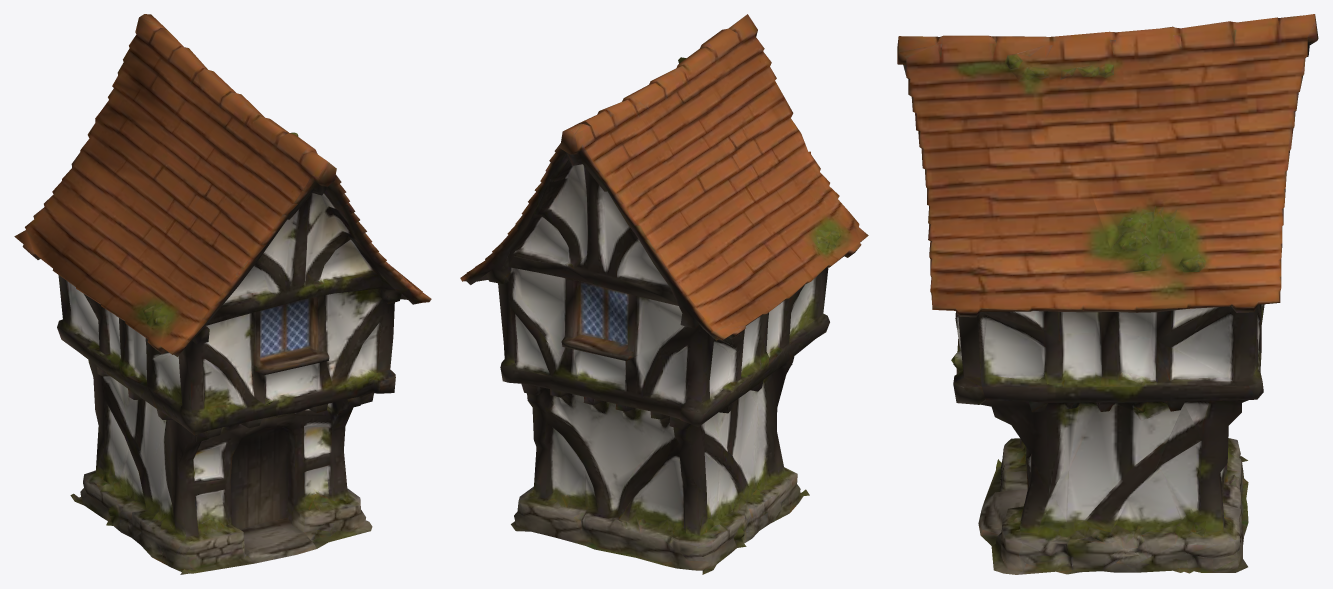
The model's file is house_timber_jettied.glb.
3 renders of one model, left to right at view 1: azimuth 30°, elevation 25°; view 2: azimuth 150°, elevation 25°; view 3: azimuth 270°, elevation 25°, orthographic. The views are drawn at different scales.
Visible parts, largest first — view 1: tripo_node_c5b8265e-50da-429c-8ee9-cb359aa0589e; view 2: tripo_node_c5b8265e-50da-429c-8ee9-cb359aa0589e; view 3: tripo_node_c5b8265e-50da-429c-8ee9-cb359aa0589e.
Part boxes in pixels (<box>): tripo_node_c5b8265e-50da-429c-8ee9-cb359aa0589e: <box>14,14,431,574</box>; tripo_node_c5b8265e-50da-429c-8ee9-cb359aa0589e: <box>460,14,868,574</box>; tripo_node_c5b8265e-50da-429c-8ee9-cb359aa0589e: <box>897,14,1318,574</box>.
Size of the model in its own units: 6.48 by 10 by 7.53.
1 material, 1 textured.
